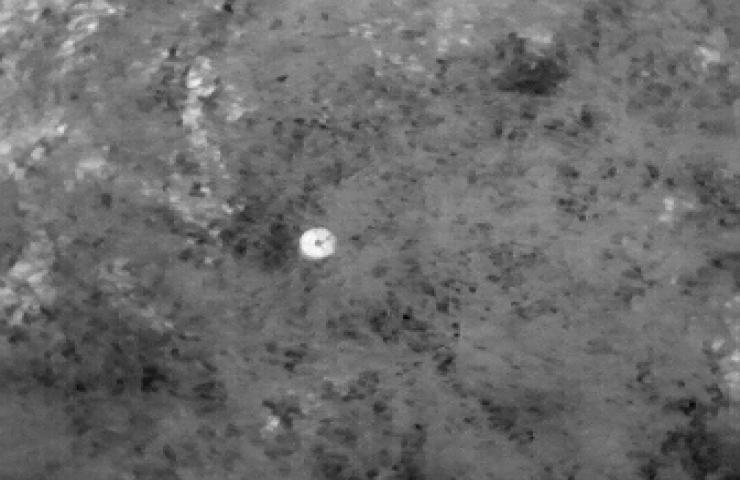landmines: (295, 226, 340, 264)
